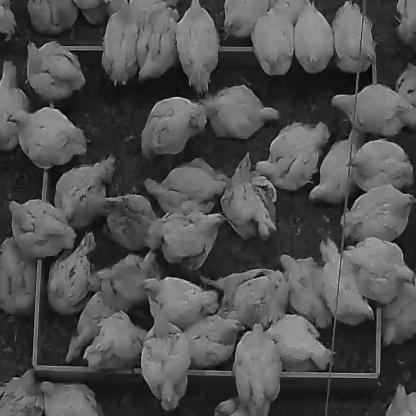chicken: (142, 158, 232, 224), (248, 120, 328, 194), (207, 263, 289, 334), (218, 152, 279, 246), (50, 152, 119, 235), (340, 236, 415, 308), (316, 238, 374, 331), (137, 94, 219, 158), (140, 308, 190, 412), (86, 246, 164, 312), (6, 107, 88, 168), (306, 123, 365, 207), (148, 212, 230, 272), (196, 83, 280, 140), (328, 84, 416, 138), (262, 314, 336, 378), (339, 184, 415, 246), (173, 0, 222, 95), (168, 313, 248, 371), (6, 195, 77, 260), (80, 311, 156, 370), (276, 254, 336, 328), (232, 323, 280, 415), (132, 0, 180, 87), (90, 194, 168, 247), (138, 277, 217, 328), (343, 139, 416, 194), (46, 234, 97, 310), (25, 39, 84, 102), (250, 0, 296, 78), (330, 0, 376, 77), (292, 0, 337, 76), (100, 0, 137, 88), (1, 234, 38, 318), (34, 380, 107, 416), (379, 282, 415, 354), (1, 60, 28, 155), (218, 0, 272, 44), (0, 366, 44, 416), (26, 0, 76, 37), (210, 393, 277, 415), (393, 58, 415, 114), (379, 382, 415, 415), (394, 0, 415, 46), (1, 0, 16, 42)
